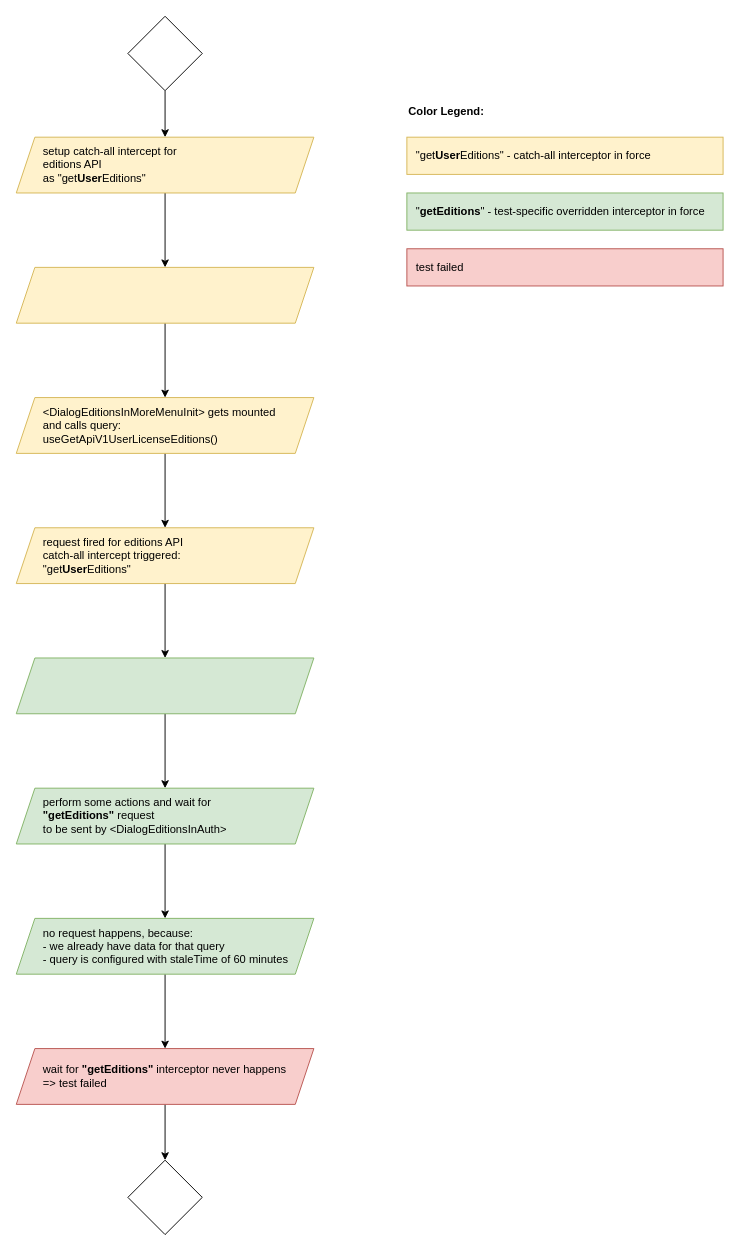
The diagram is 739 pixels wide and 1251 high, and some of its shapes have lost their labels. The centre of each missing label's shape, as x and y in pixels:
finish: point (164, 1197)
start: point (164, 53)
start test in beforeEach() run cy.visit(): point (164, 294)
the actual test runs override intercept for editions API as " getEditions ": point (164, 685)
